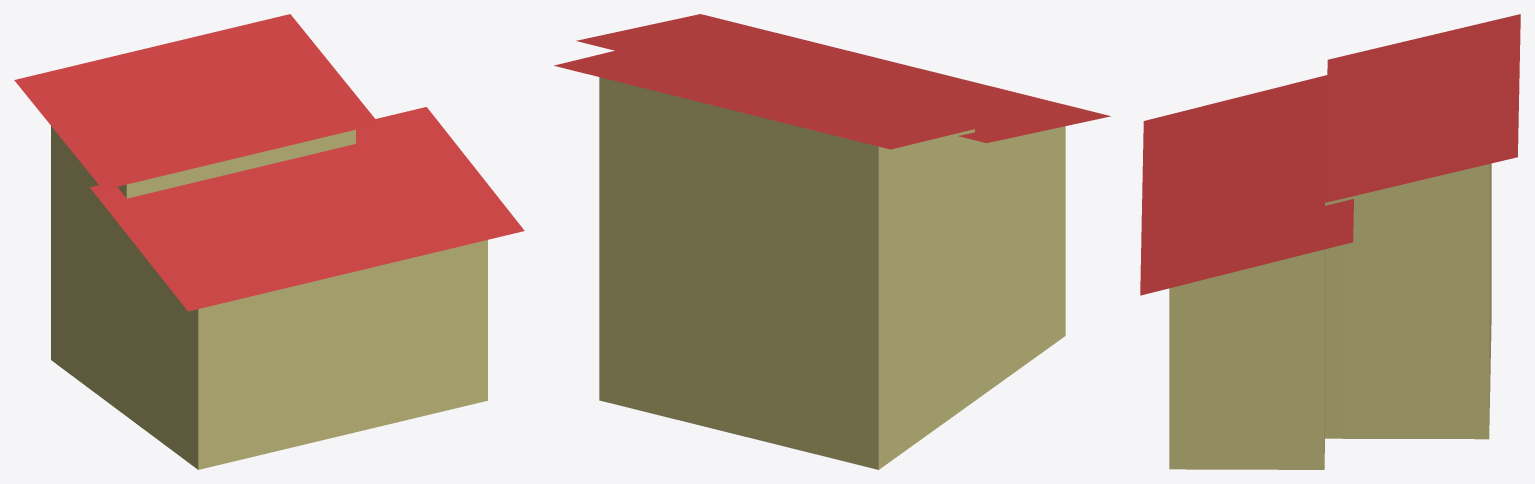
3 renders of one model, left to right at view 1: azimuth 30°, elevation 25°; view 2: azimuth 150°, elevation 25°; view 3: azimuth 270°, elevation 25°, orthographic. The views are drawn at different scales.
Bounding box in the file's own units: 10.75 × 9.85 × 8.41.
